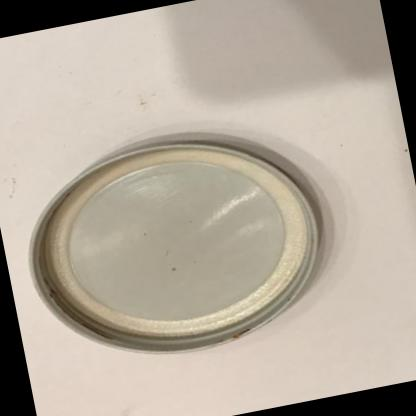Metal: (28, 141, 318, 351)
